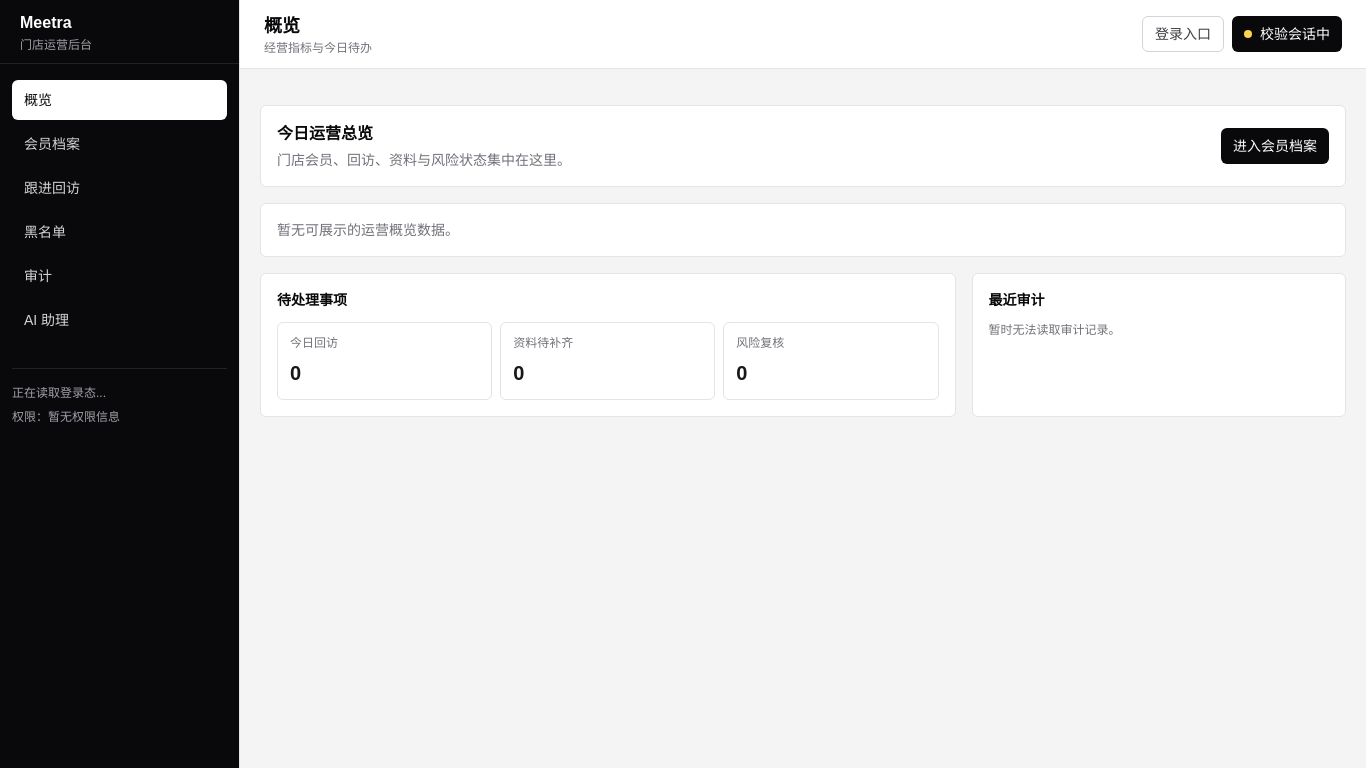
精简 V1 首页验收 › focuses the main navigation on overview, members, followups, blacklist, and audit
Expected: the button "概览" is shown, [12,80,227,120]
Expected: the button "跟进回访" is shown, [12,168,227,208]
Click the button "会员档案" at (120, 144), box [12,124,227,164]
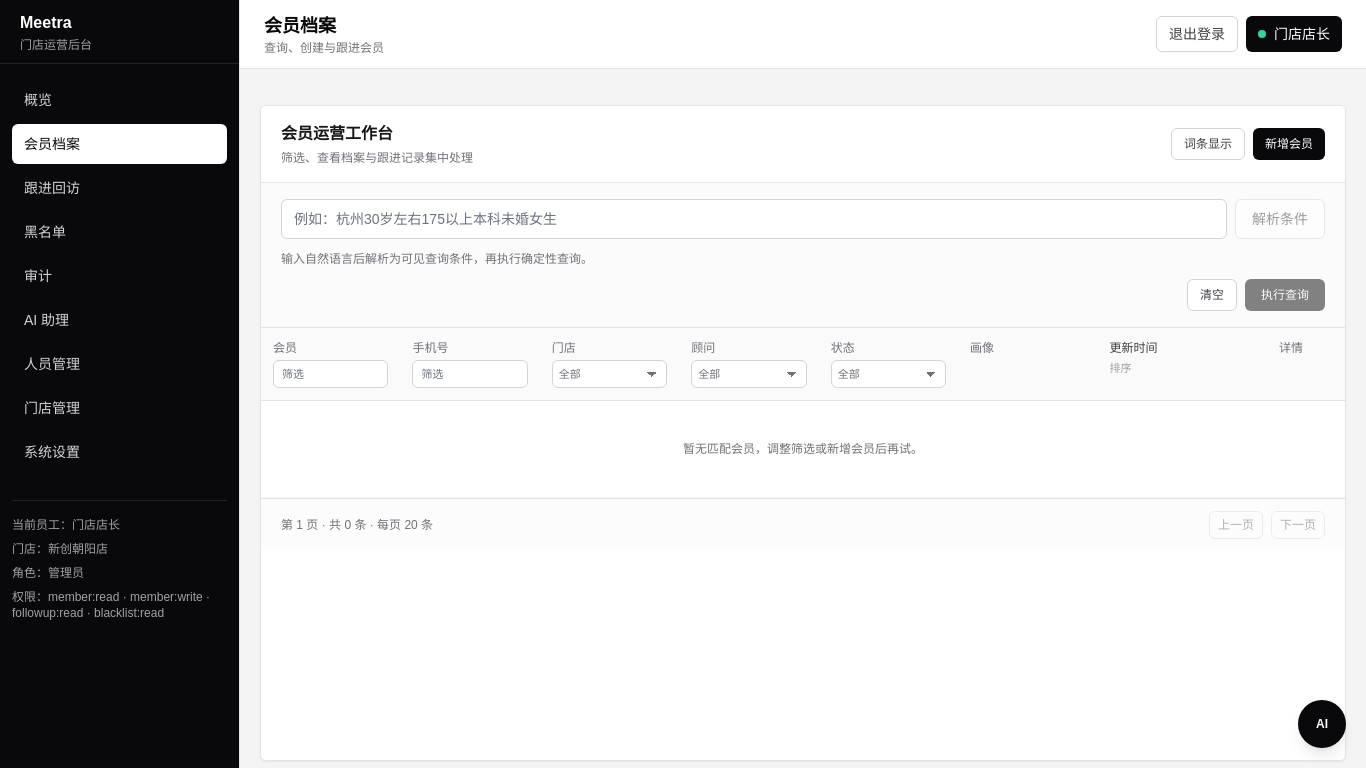
Expected: the text "暂无匹配会员，调整筛选或新增会员后再试。" is shown, [683,441,923,457]
Click the button "跟进回访" at (120, 188), box [12,168,227,208]
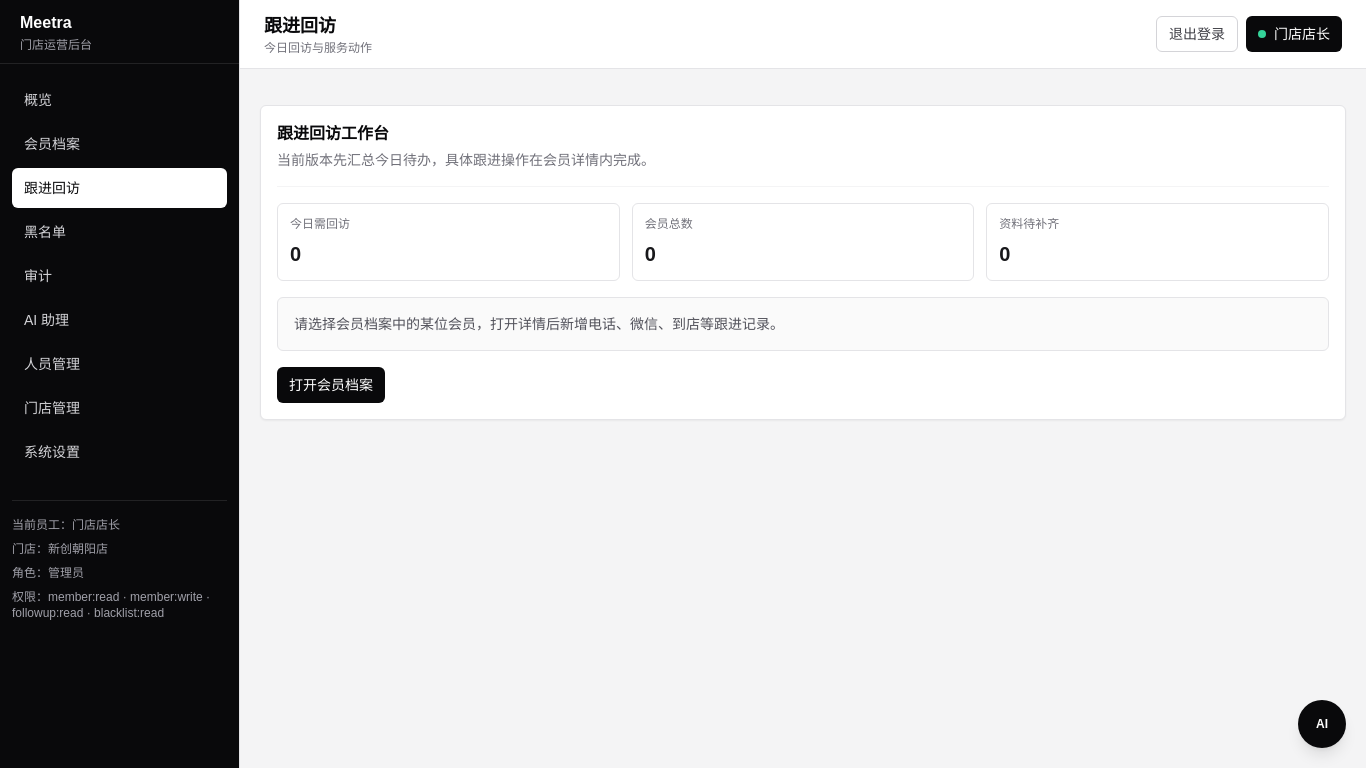
Expected: the heading "跟进回访工作台" is shown, [277,125,389,142]
Click the button "黑名单" at (120, 232), box [12,212,227,252]
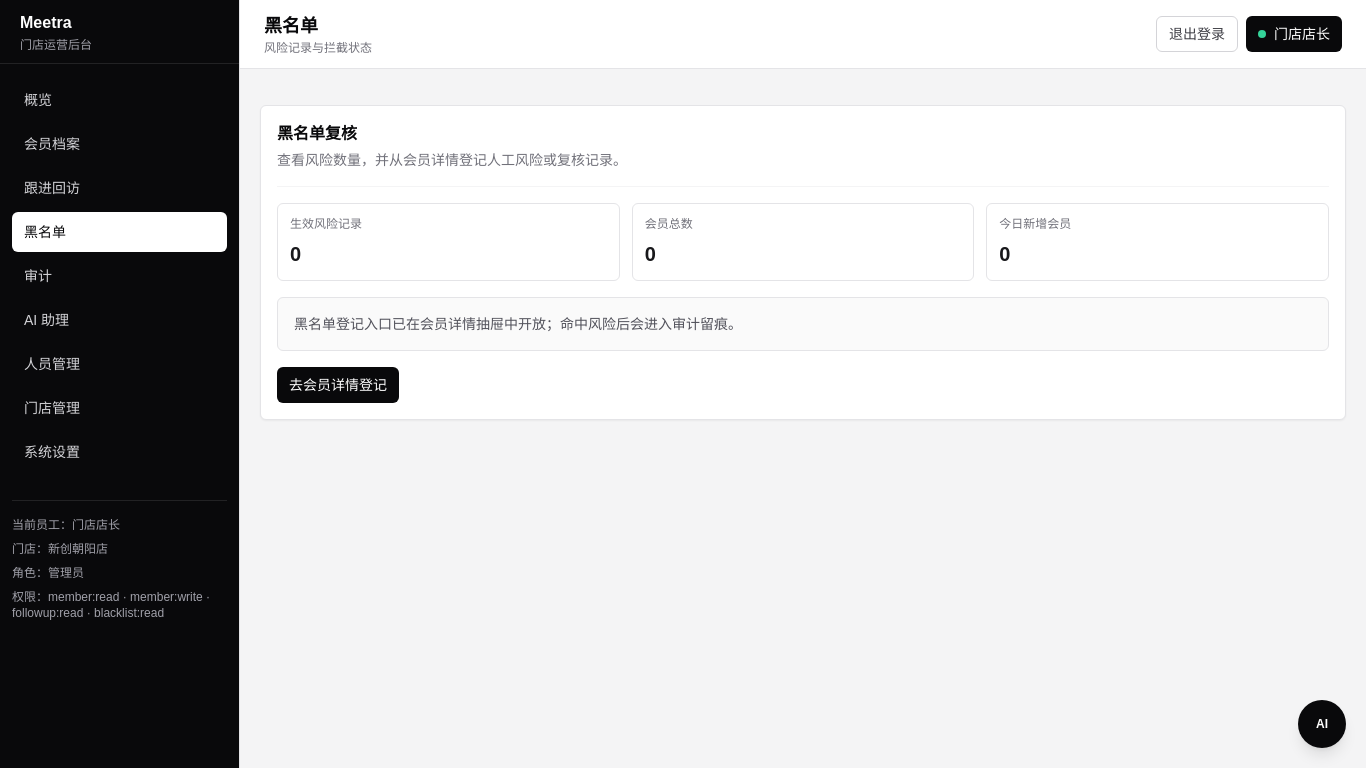
Expected: the heading "黑名单复核" is shown, [277,125,357,142]
Click the button "审计" at (120, 276), box [12,256,227,296]
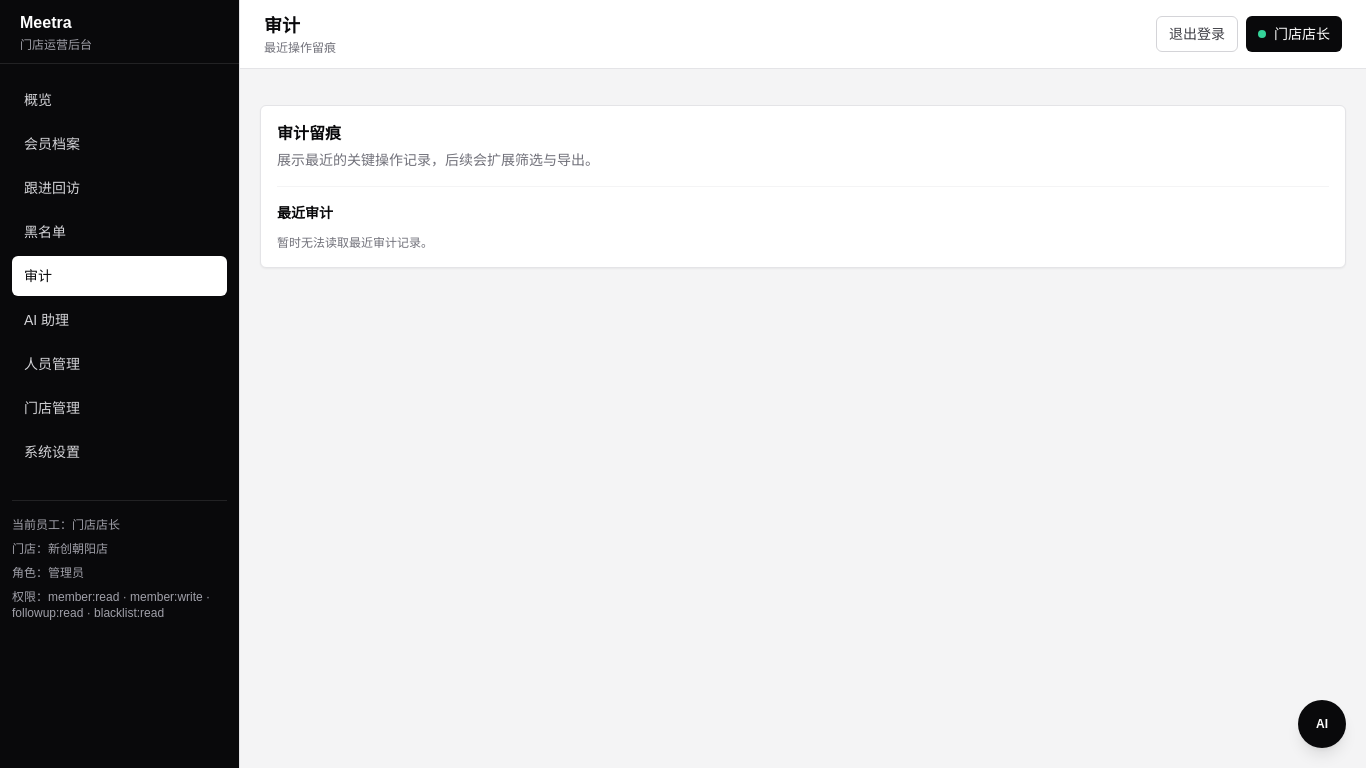
Expected: the heading "审计留痕" is shown, [277,125,341,142]
Click the button "AI 助理" at (120, 320), box [12,300,227,340]
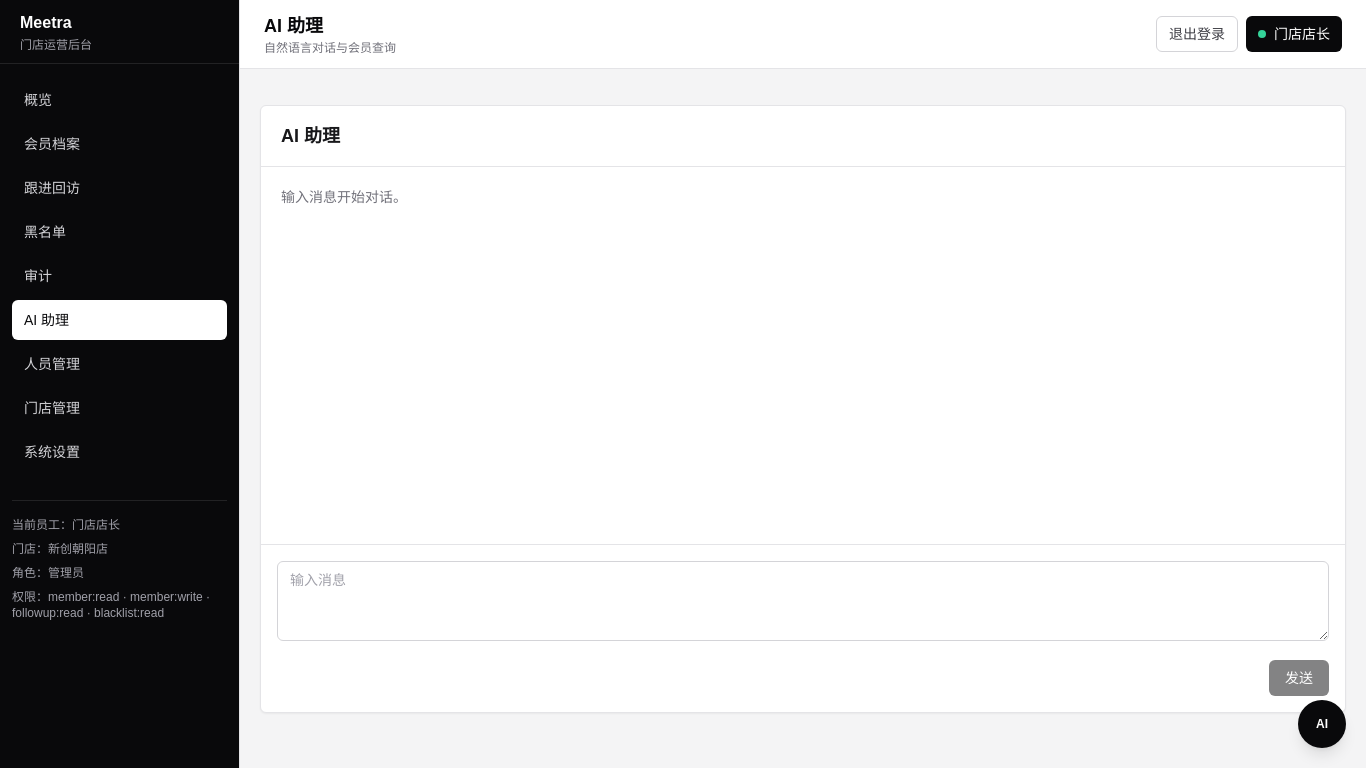
Expected: the text "门店：新创朝阳店" is shown, [12,542,108,556]
Expected: the text "角色：管理员" is shown, [12,566,84,580]
Expected: the 2nd heading "AI 助理" is shown, [281,126,340,146]
